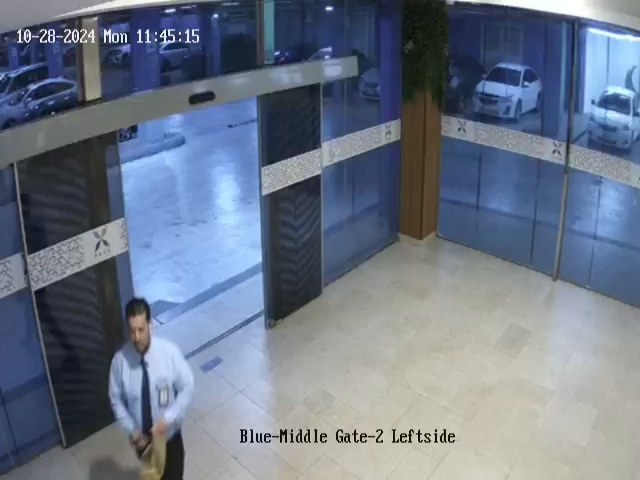employee: (108, 297, 195, 480)
